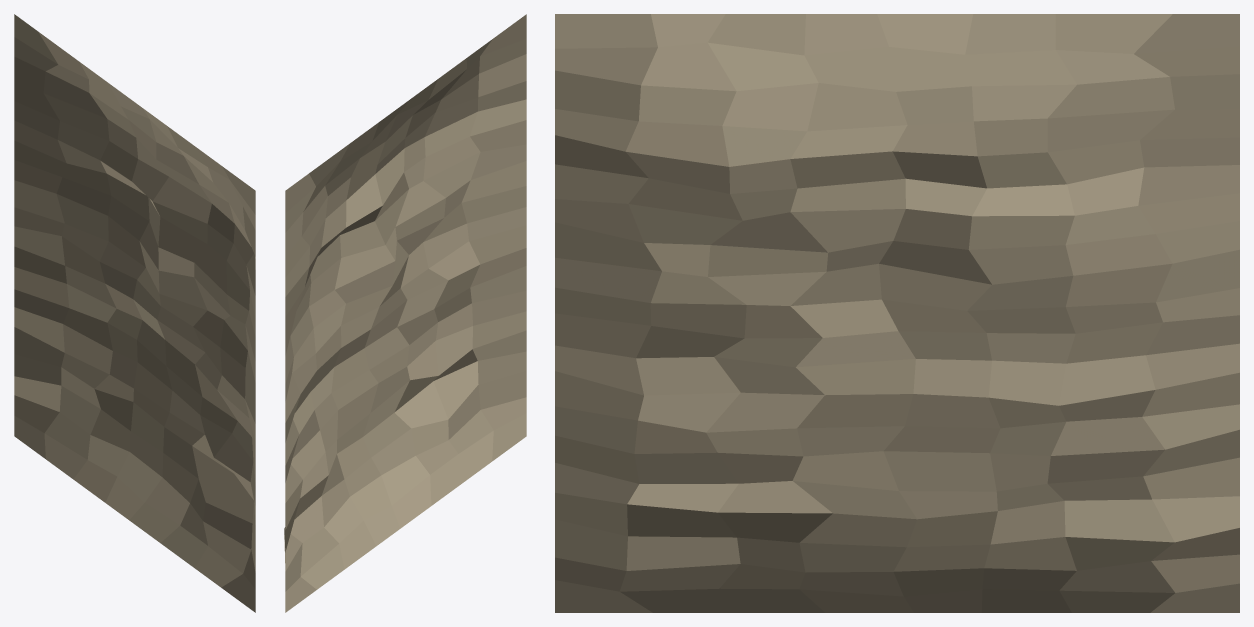
File: SM_SB_Kit_RockFaceB.fbx
The picture shows the model from 3 angles, left to right: view 1: azimuth 30°, elevation 25°; view 2: azimuth 150°, elevation 25°; view 3: azimuth 270°, elevation 25°; orthographic projection. The views are drawn at different scales.
Visible parts, largest first — view 1: SM_SB_Kit_RockFaceB; view 2: SM_SB_Kit_RockFaceB; view 3: SM_SB_Kit_RockFaceB.
Part boxes in pixels (x1,y1,x2,y2): SM_SB_Kit_RockFaceB: (14, 14, 255, 612); SM_SB_Kit_RockFaceB: (284, 14, 526, 612); SM_SB_Kit_RockFaceB: (555, 14, 1239, 612).
Bounding box in the file's own units: 41.79 × 430 × 415.
